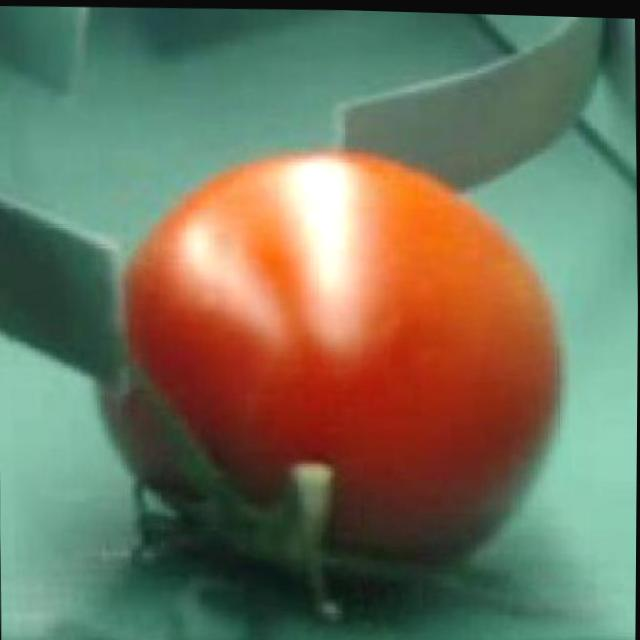tomato: (118, 144, 571, 568)
